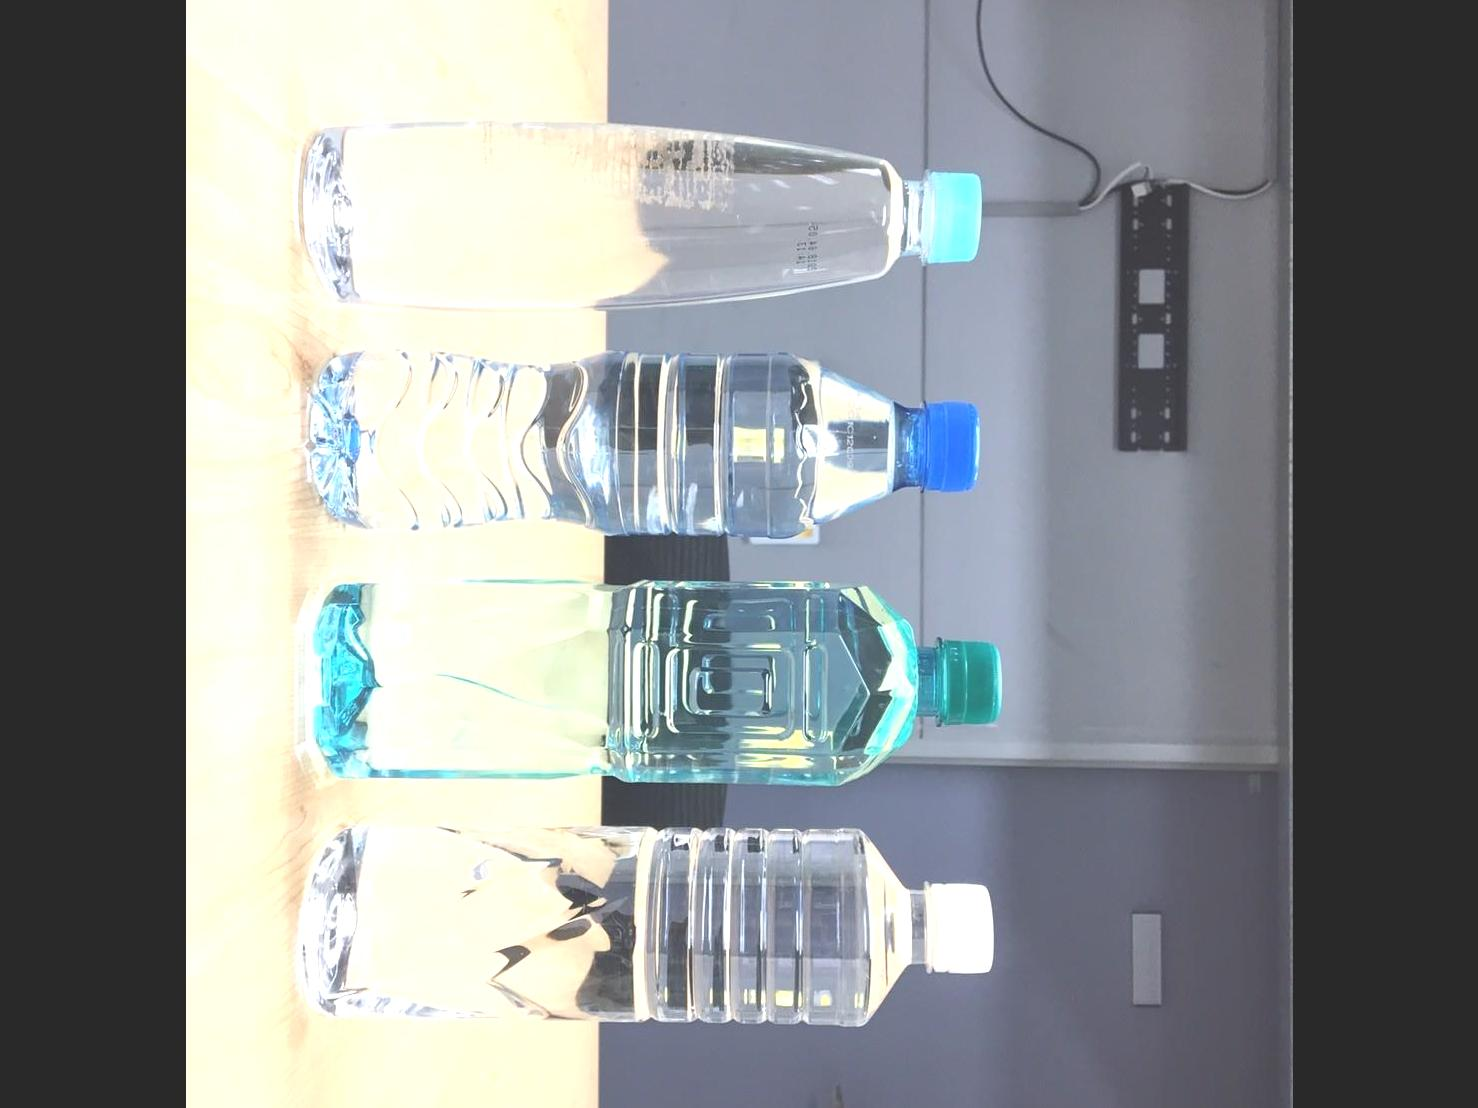bottle: (296, 561, 1007, 802), (293, 825, 989, 1034), (289, 122, 988, 307), (292, 345, 989, 528)
